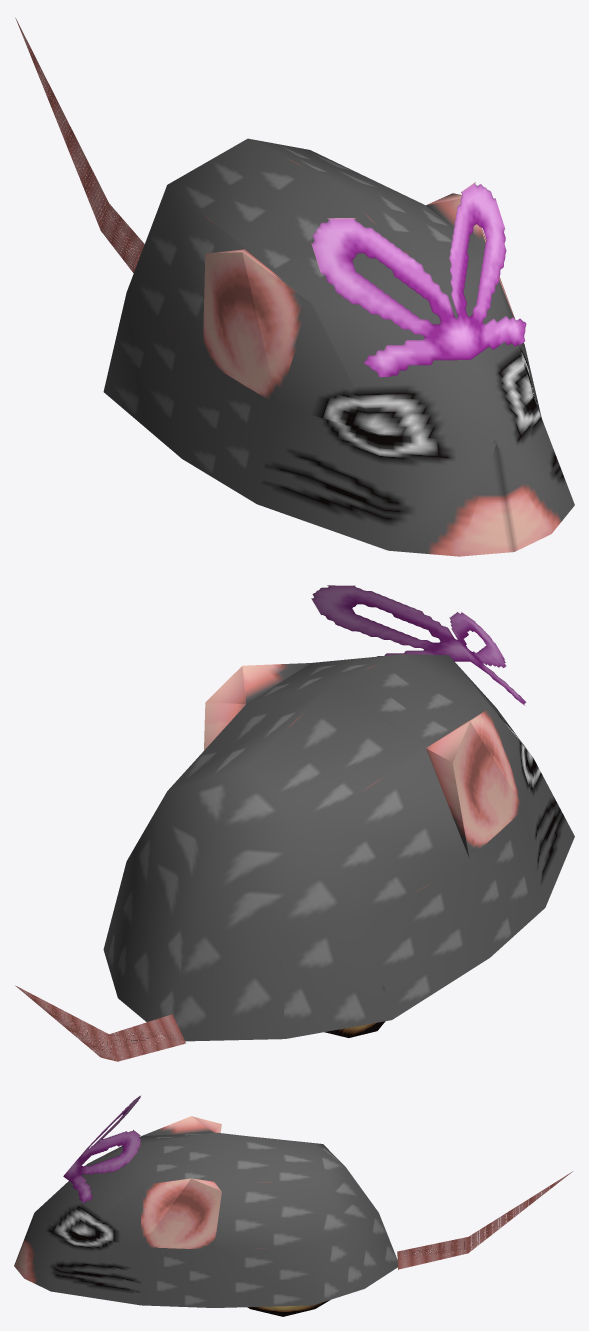
Rendered from mouse_mom.obj.
3 views of the same model, one above another, from view 1: azimuth 30°, elevation 25°; view 2: azimuth 150°, elevation 25°; view 3: azimuth 270°, elevation 25° (orthographic). The views are drawn at different scales.
Visible parts, largest first — view 1: geometry_119069712; view 2: geometry_119069712; view 3: geometry_119069712.
Part boxes in pixels (x1,y1,x2,y2): geometry_119069712: [15, 18, 574, 556]; geometry_119069712: [15, 585, 574, 1061]; geometry_119069712: [14, 1096, 572, 1316].
Bounding box in the file's own units: 22.86 × 21.96 × 64.35.
Materials: 1 (1 with a texture image).
